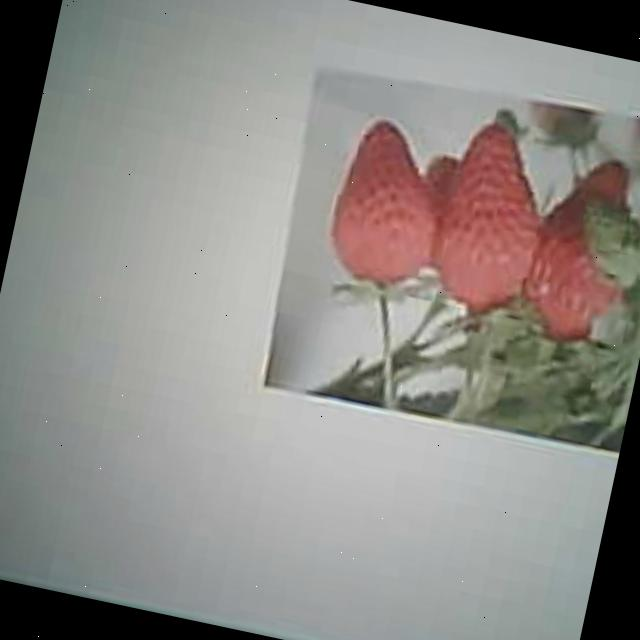strawberry: (426, 121, 554, 316), (511, 148, 634, 350), (320, 116, 456, 292), (571, 197, 640, 279)
